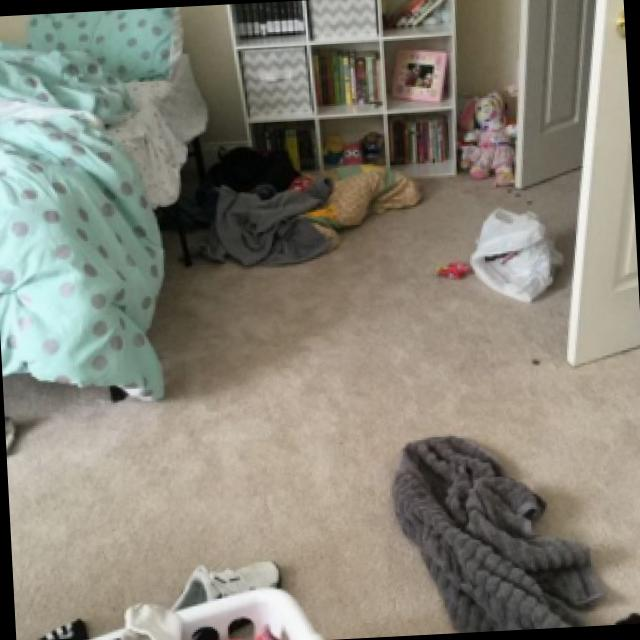mess: (4, 381, 640, 640), (193, 142, 567, 474), (0, 8, 164, 418)
